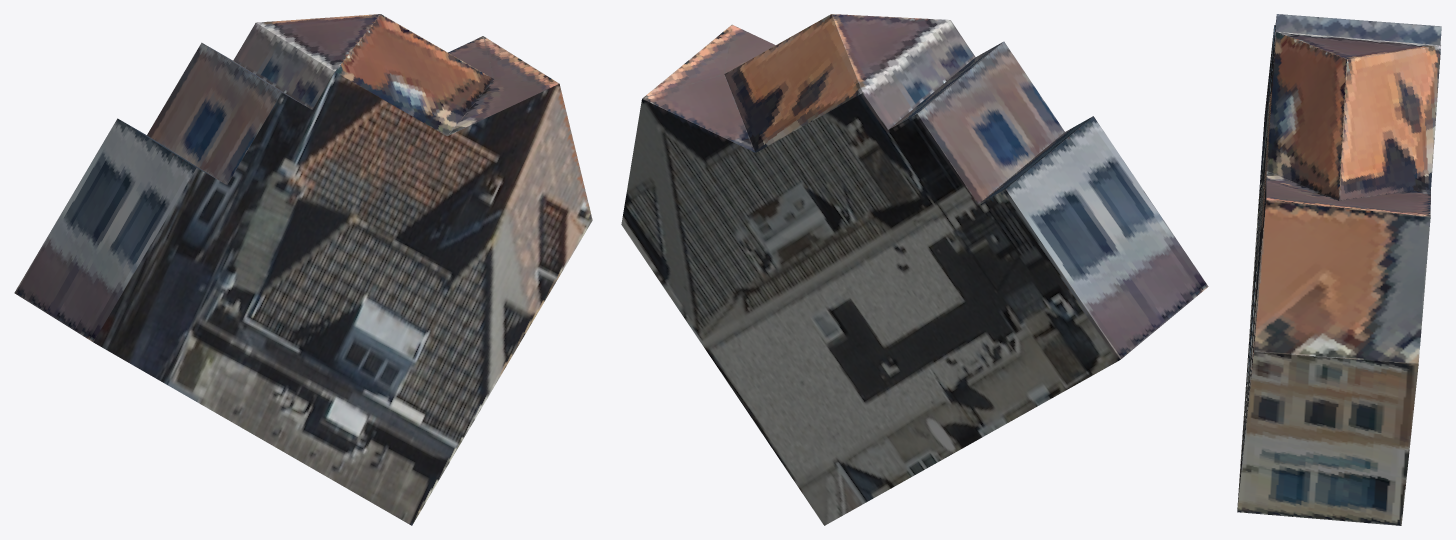
3 renders of one model, left to right at view 1: azimuth 30°, elevation 25°; view 2: azimuth 150°, elevation 25°; view 3: azimuth 270°, elevation 25°, orthographic. The views are drawn at different scales.
Visible parts, largest first — view 1: BAG_0599100000760369 (×4); view 2: BAG_0599100000760369 (×4); view 3: BAG_0599100000760369 (×3).
Part boxes in pixels (x1=…): BAG_0599100000760369 (×4): x1=14, y1=14, x2=592, y2=525; BAG_0599100000760369 (×4): x1=621, y1=14, x2=1208, y2=525; BAG_0599100000760369 (×3): x1=1237, y1=14, x2=1441, y2=525.
Bounding box in the file's own units: 18.91 × 17.29 × 6.73.
4 materials, 4 textured.
